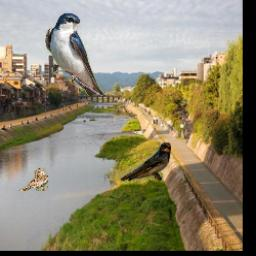Sparrow: (17, 168, 48, 192)
Swallow: (45, 11, 104, 96), (120, 143, 171, 182)
